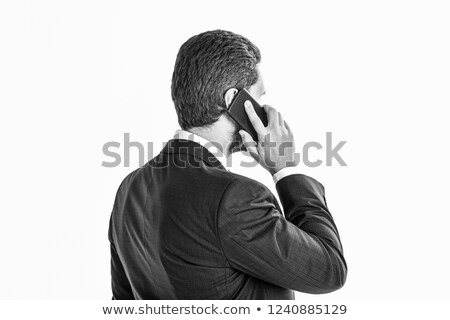phone: (221, 82, 271, 141)
talk: (218, 75, 292, 164)
